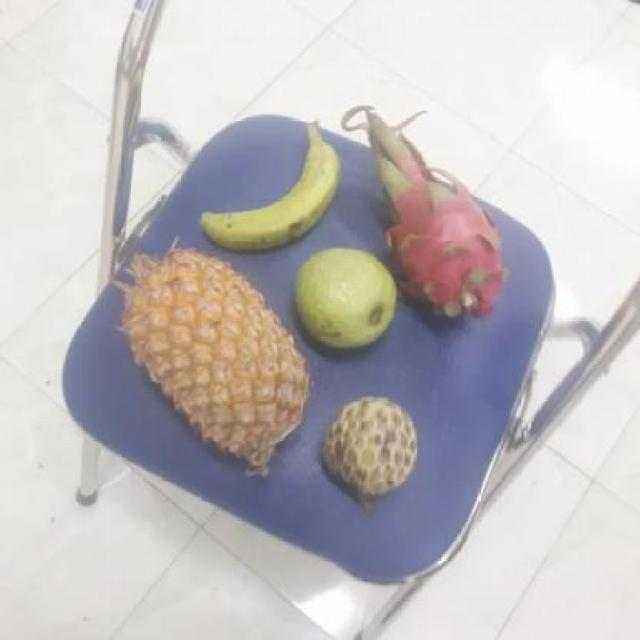banana: (194, 120, 335, 252)
dragon fruit: (368, 153, 504, 319)
pear: (290, 248, 398, 354)
pineapple: (113, 255, 304, 462)
sugar apple: (313, 397, 418, 495)
